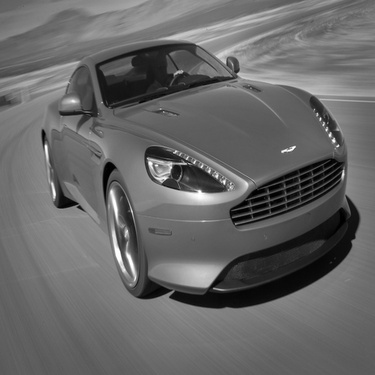car: (23, 34, 359, 303)
